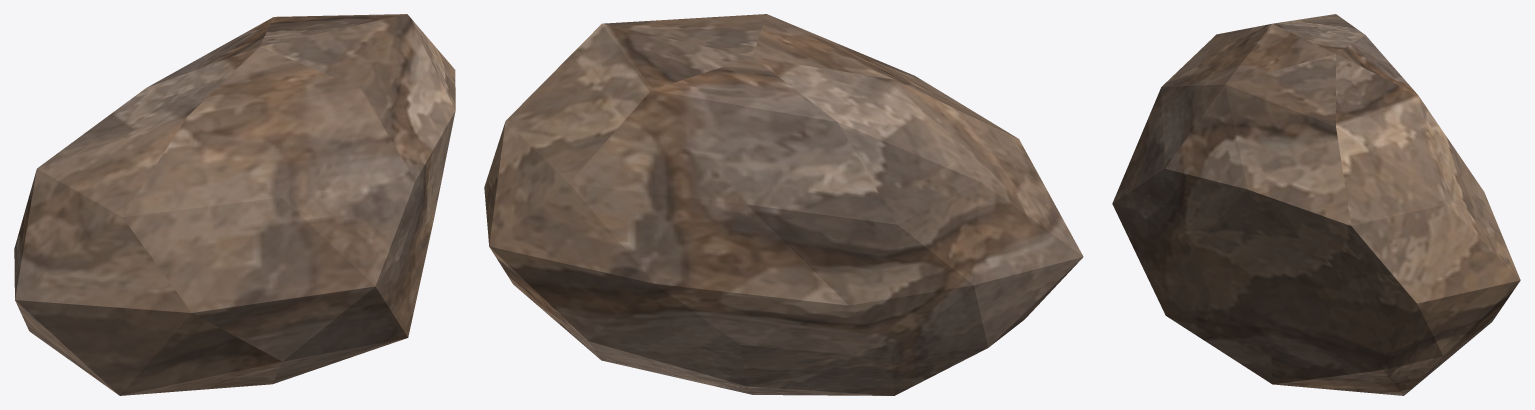
The model's file is rock-s-sharp.glb.
3 views of the same model, side by side, from view 1: azimuth 30°, elevation 25°; view 2: azimuth 150°, elevation 25°; view 3: azimuth 270°, elevation 25° (orthographic). The views are drawn at different scales.
Visible parts, largest first — view 1: rock-s-sharp; view 2: rock-s-sharp; view 3: rock-s-sharp.
Boxes of the visible parts, x1,y1,x2,y2 form: rock-s-sharp: (14,14,455,395); rock-s-sharp: (484,14,1083,395); rock-s-sharp: (1112,14,1520,395).
Bounding box in the file's own units: 1.13 × 0.7038 × 0.8152.
1 material, 1 textured.
